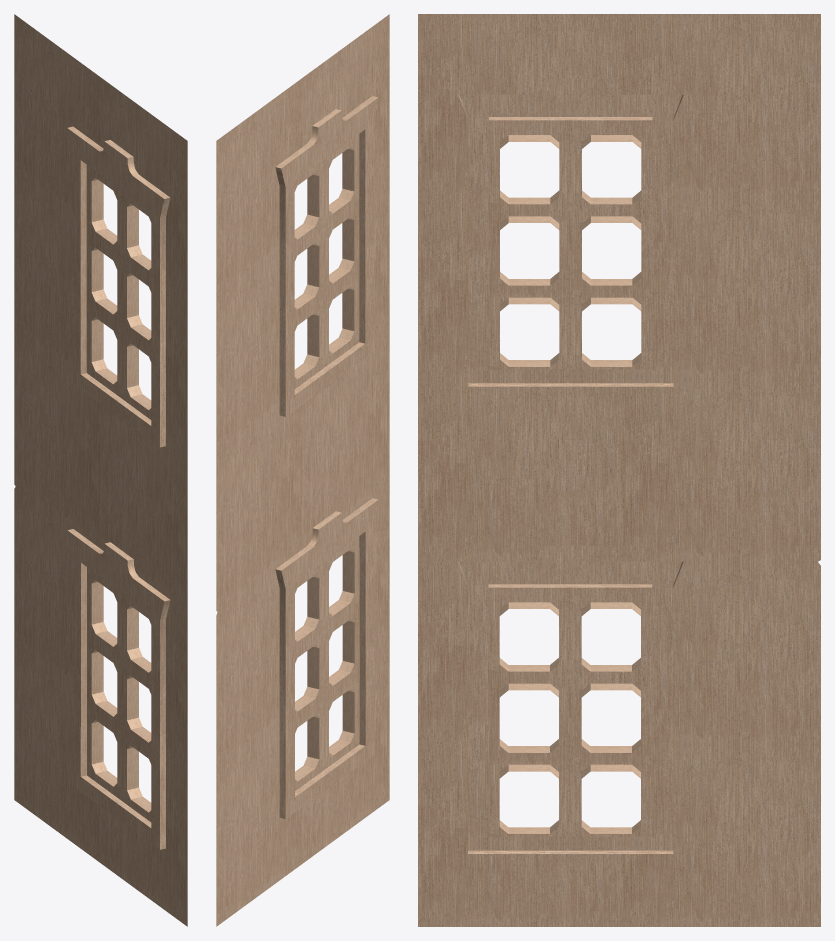
Rendered from house_front_right.FBX.
3 renders of one model, left to right at view 1: azimuth 30°, elevation 25°; view 2: azimuth 150°, elevation 25°; view 3: azimuth 270°, elevation 25°, orthographic. The views are drawn at different scales.
Parts seen in each view (by area): view 1: front003; view 2: front003; view 3: front003.
Boxes of the visible parts, x1,y1,x2,y2 form: front003: (14, 14, 187, 926); front003: (216, 14, 389, 926); front003: (418, 14, 820, 926).
Size of the model in its own units: 1.2 by 50 by 20.
